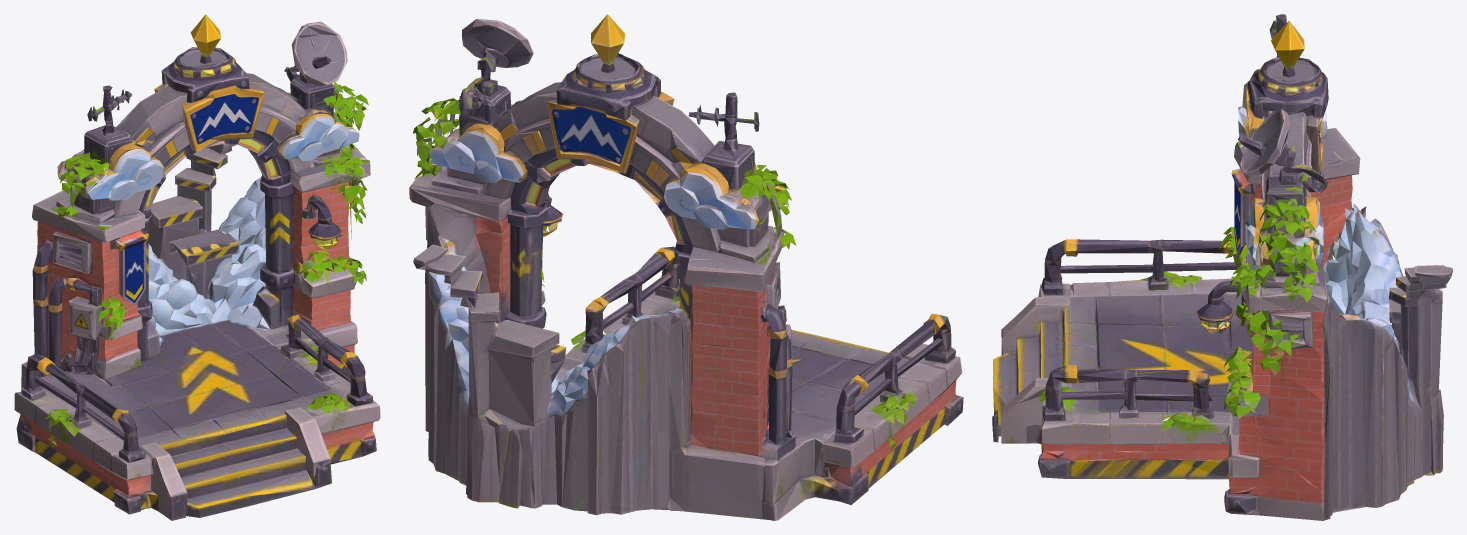
The model's file is portal_gateway_shrine.glb.
3 renders of one model, left to right at view 1: azimuth 30°, elevation 25°; view 2: azimuth 150°, elevation 25°; view 3: azimuth 270°, elevation 25°, orthographic. The views are drawn at different scales.
Visible parts, largest first — view 1: output_unwrapped; view 2: output_unwrapped; view 3: output_unwrapped.
Boxes of the visible parts, x1,y1,x2,y2 form: output_unwrapped: [14, 14, 380, 520]; output_unwrapped: [409, 14, 963, 520]; output_unwrapped: [992, 14, 1452, 520].
Size of what is drawn, in the model's own units: 1.01 by 1 by 0.9789.
Materials: 1 (1 with a texture image).
